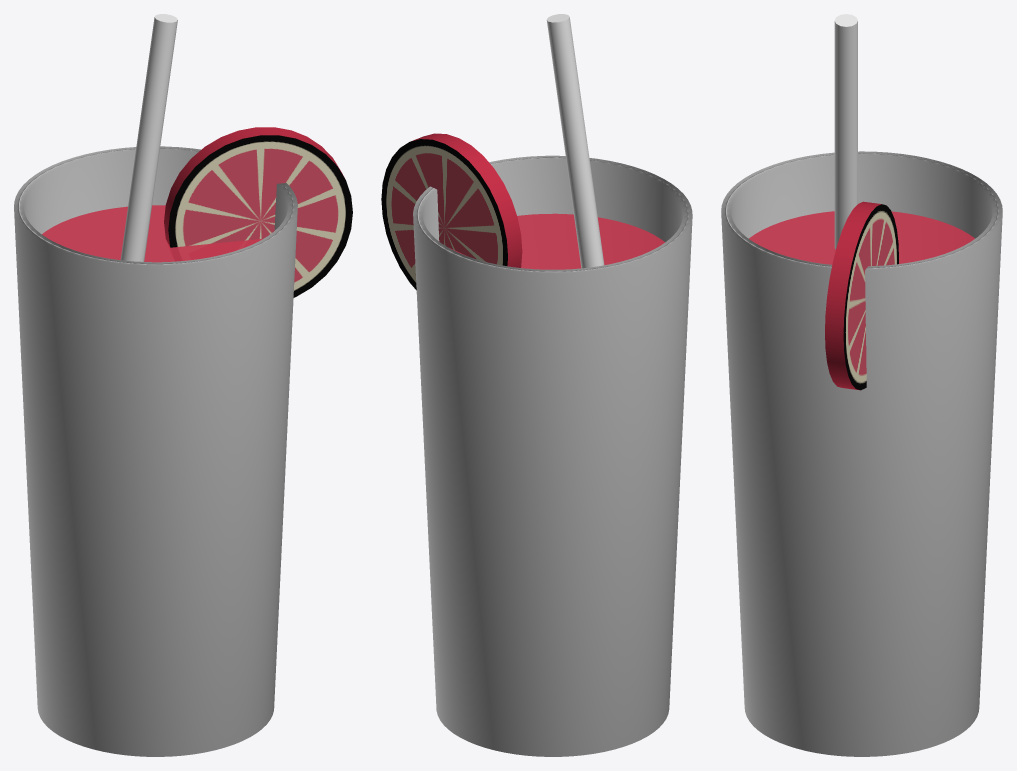
File: suco-morango.glb
The picture shows the model from 3 angles, left to right: view 1: azimuth 30°, elevation 25°; view 2: azimuth 150°, elevation 25°; view 3: azimuth 270°, elevation 25°; orthographic projection.
Bounding box in the file's own units: 0.0897 × 0.1945 × 0.072.
6 materials, 2 textured.
